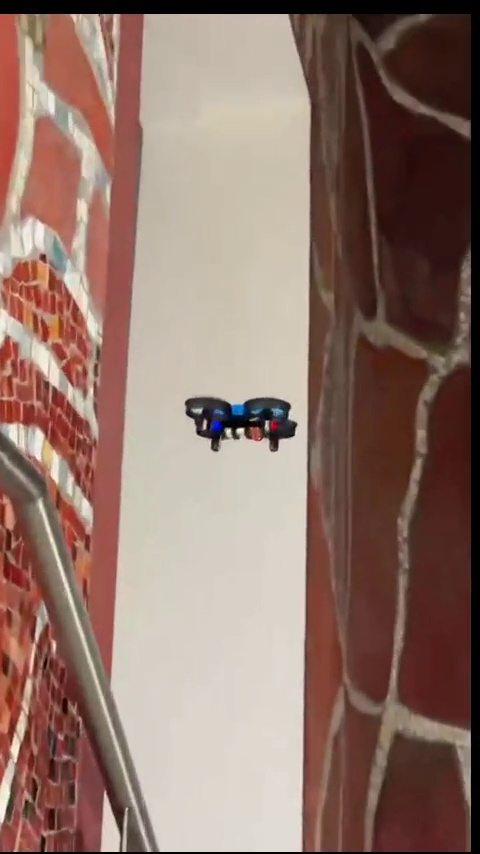drone: (185, 398, 297, 452)
